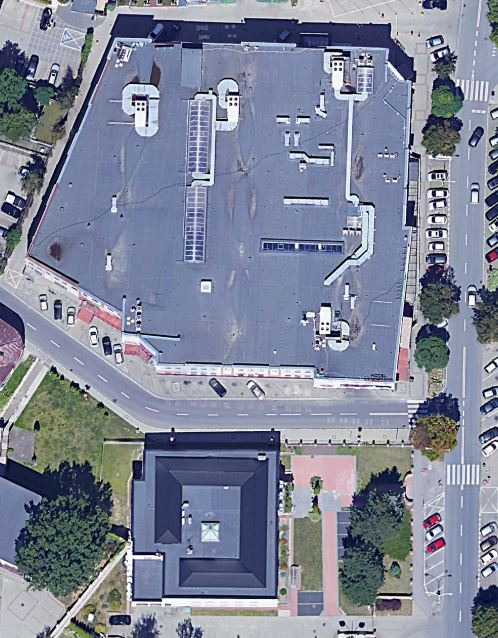block of flats: (120, 436, 288, 613)
shopping_center: (13, 27, 433, 398)
